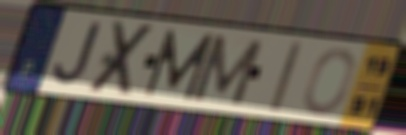I: (266, 39, 305, 114)
J: (51, 20, 104, 88)
M: (188, 32, 267, 108), (142, 27, 218, 103)
O: (299, 46, 359, 117)
X: (83, 20, 159, 98)
